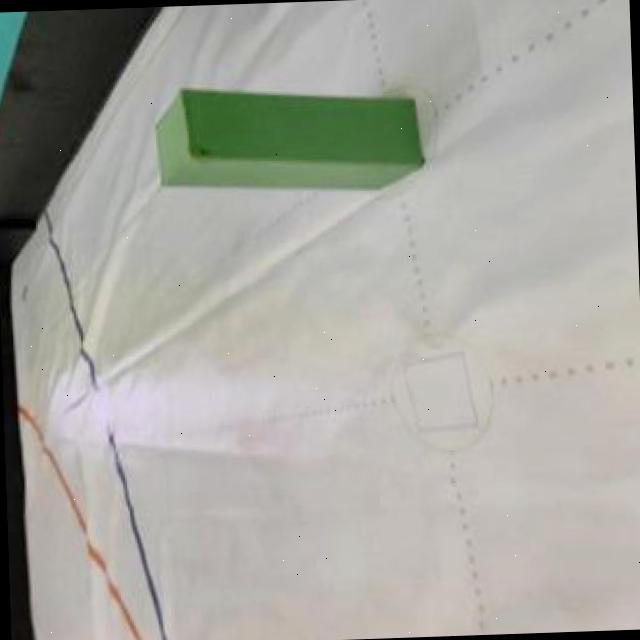greenbox: (150, 76, 428, 198)
